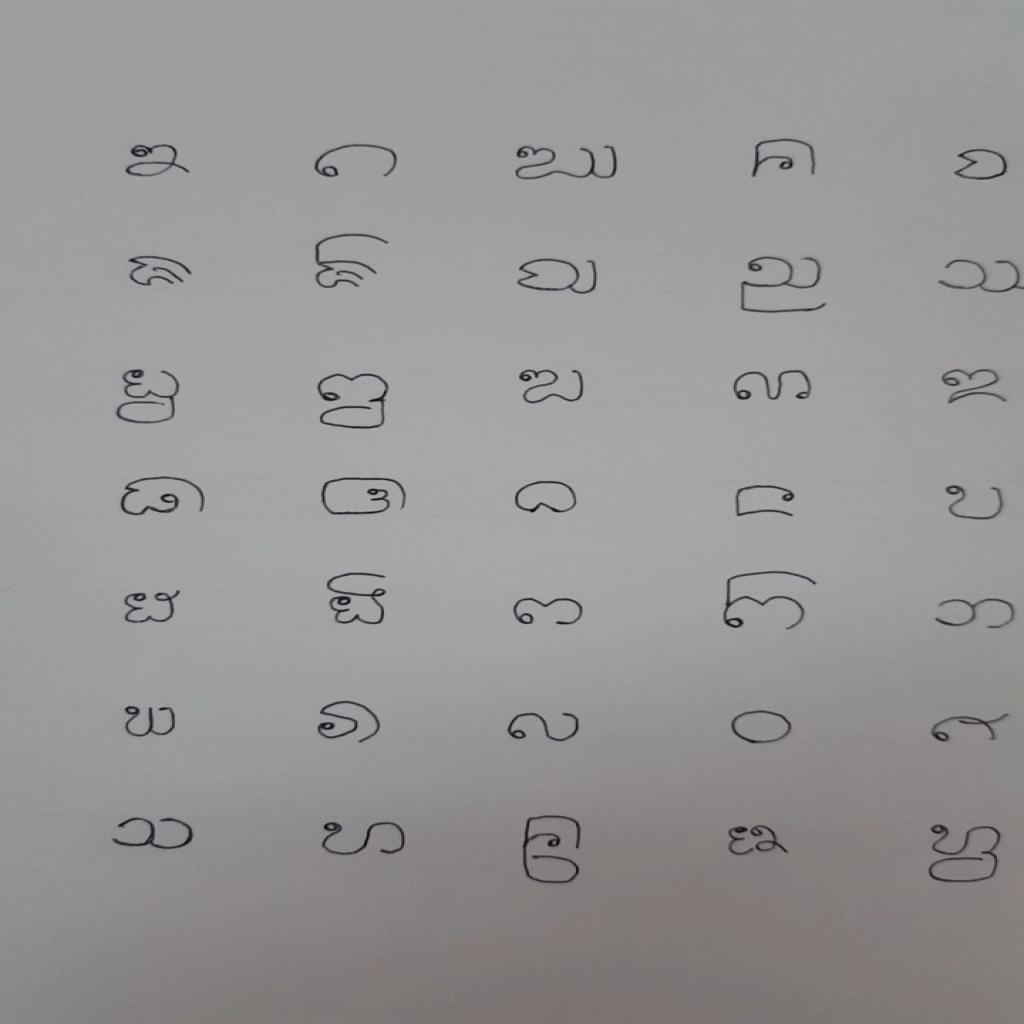LN002: (114, 139, 201, 183)
LN003: (307, 141, 407, 185)
LN004: (505, 140, 630, 185)
LN005: (745, 136, 827, 184)
LN006: (950, 144, 1017, 185)
LN008: (119, 251, 202, 292)
LN009: (307, 230, 395, 295)
LN010: (510, 254, 607, 300)
LN011: (734, 253, 837, 320)
LN014: (110, 365, 189, 429)
LN015: (312, 370, 397, 434)
LN016: (511, 367, 593, 408)
LN017: (724, 367, 820, 407)
LN018: (929, 365, 1018, 410)
LN020: (112, 472, 215, 520)
LN021: (314, 473, 417, 523)
LN022: (506, 478, 588, 519)
LN023: (726, 482, 803, 523)
LN024: (936, 481, 1014, 525)
LN026: (115, 585, 189, 630)
LN027: (321, 568, 395, 632)
LN028: (504, 594, 591, 631)
LN029: (716, 568, 824, 635)
LN030: (923, 593, 1022, 636)
LN032: (114, 700, 187, 744)
LN033: (309, 696, 390, 749)
LN034: (499, 707, 590, 748)
LN035: (722, 706, 803, 750)
LN036: (922, 708, 1018, 749)
LN038: (105, 812, 203, 855)
LN039: (314, 815, 415, 861)
LN040: (513, 811, 593, 889)
LN041: (717, 821, 799, 860)
LN042: (916, 821, 1011, 888)
